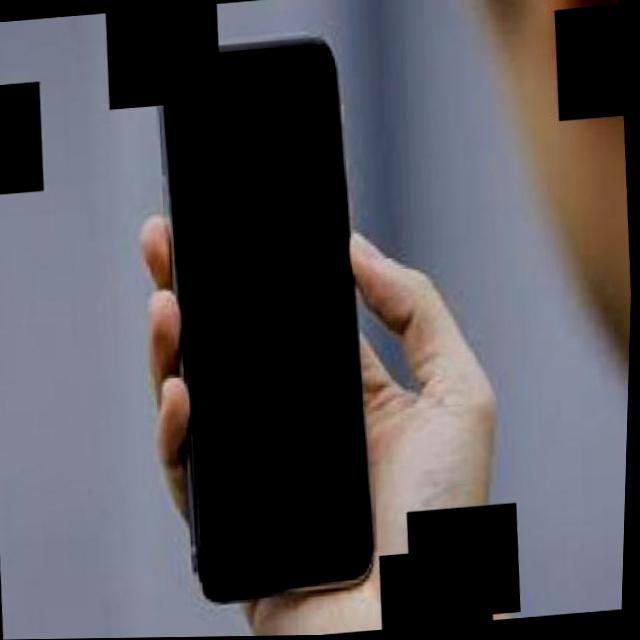Smartphone: (141, 34, 390, 609)
